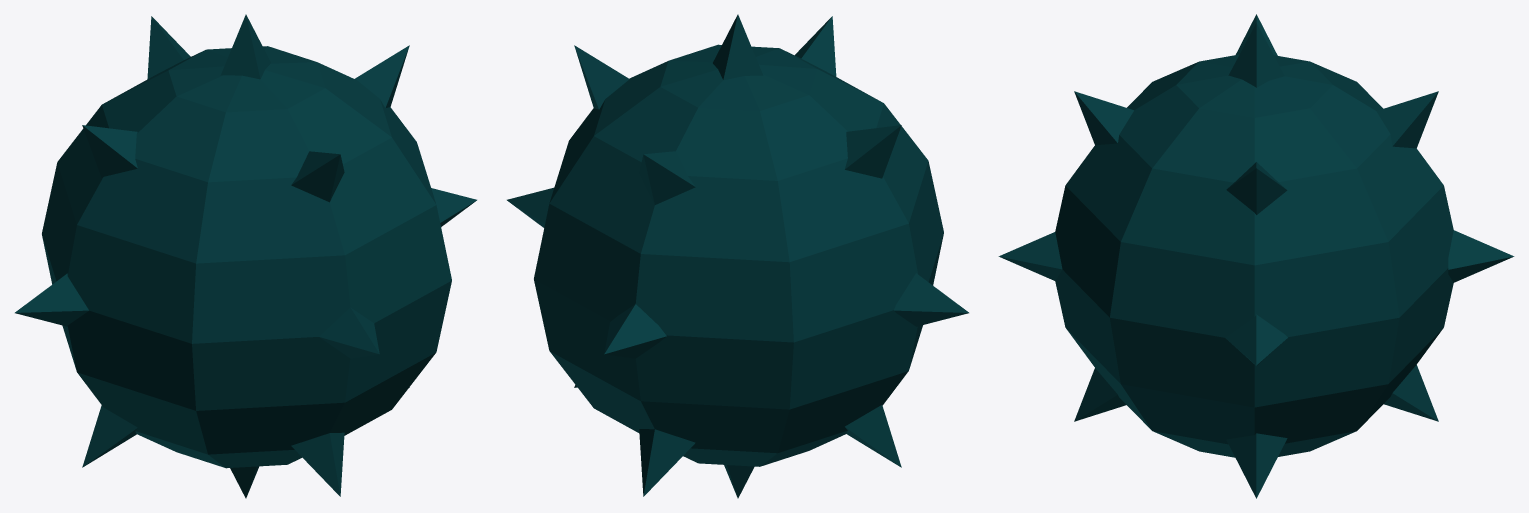
The model's file is hammerBall.fbx.
The picture shows the model from 3 angles, left to right: view 1: azimuth 30°, elevation 25°; view 2: azimuth 150°, elevation 25°; view 3: azimuth 270°, elevation 25°; orthographic projection. The views are drawn at different scales.
Visible parts, largest first — view 1: pSphere2; view 2: pSphere2; view 3: pSphere2.
Boxes of the visible parts, bbox=[...] form: pSphere2: bbox=[15, 14, 476, 498]; pSphere2: bbox=[507, 14, 968, 498]; pSphere2: bbox=[998, 14, 1514, 498].
Size of the model in its own units: 7.55 by 7.55 by 7.55.
